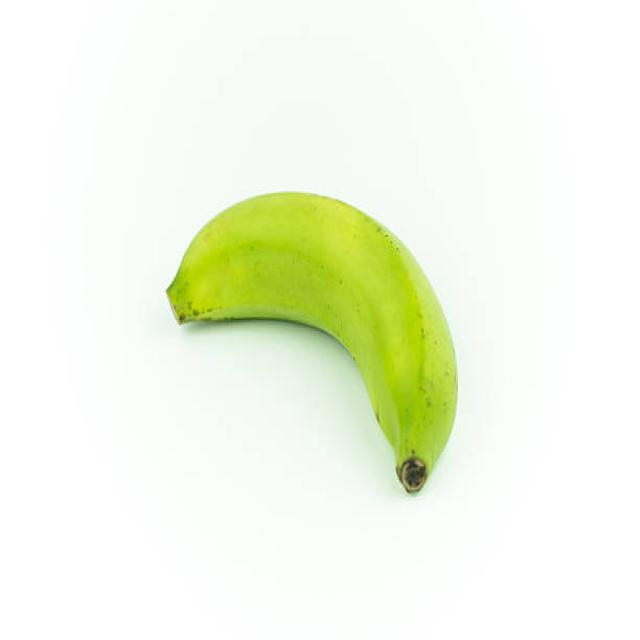banana: (165, 188, 459, 495)
